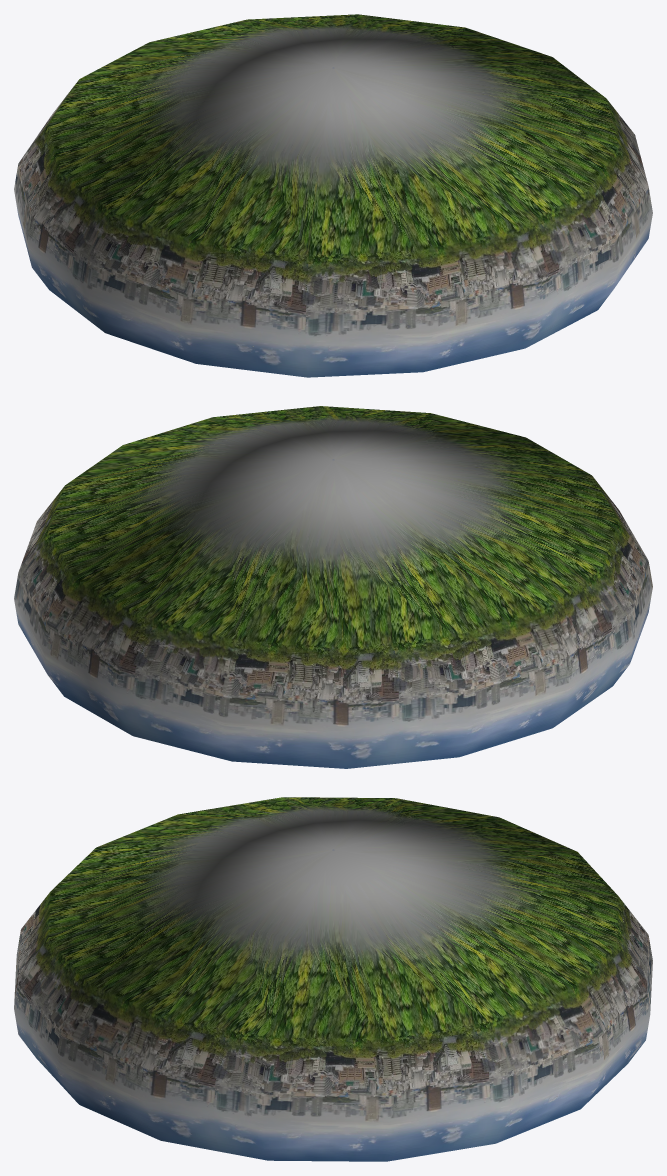
File: Cemetery.glb
3 views of the same model, one above another, from view 1: azimuth 30°, elevation 25°; view 2: azimuth 150°, elevation 25°; view 3: azimuth 270°, elevation 25° (orthographic).
Parts seen in each view (by area): view 1: Cemetery; view 2: Cemetery; view 3: Cemetery.
Boxes of the visible parts, x1,y1,x2,y2 form: Cemetery: (14,14,652,377); Cemetery: (14,406,652,768); Cemetery: (14,797,652,1161).
Bounding box in the file's own units: 522 × 168 × 522.
Materials: 10 (10 with a texture image).
